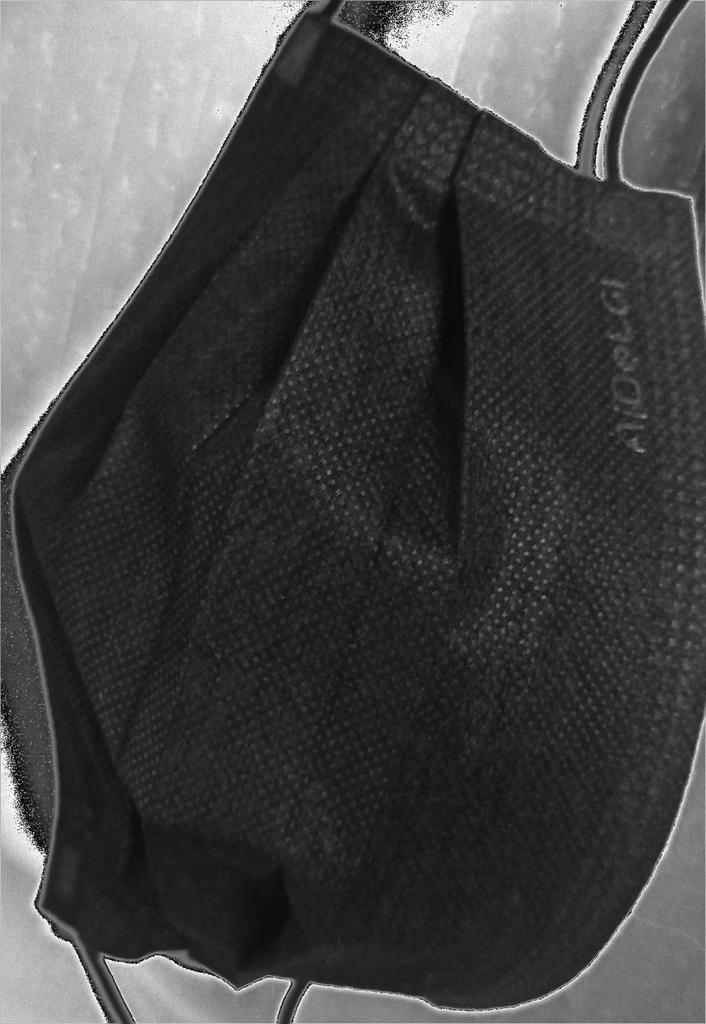Low GSM: (10, 12, 706, 1012)
